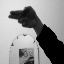h: (6, 5, 35, 29)
